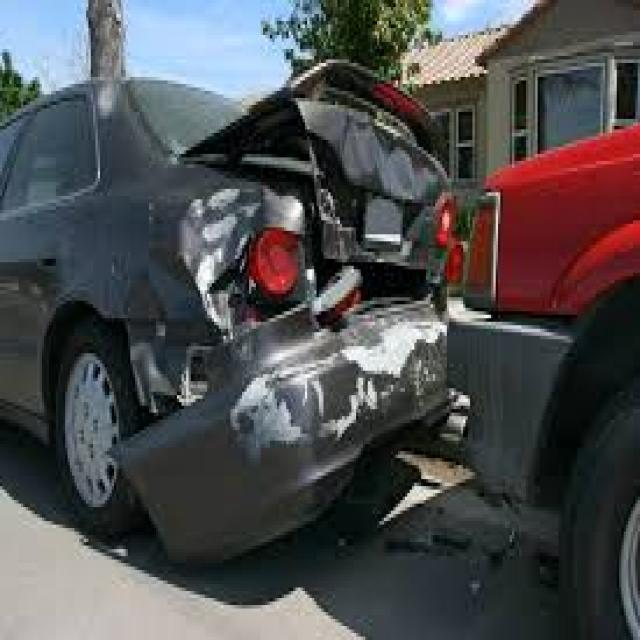accident: (112, 45, 630, 578)
